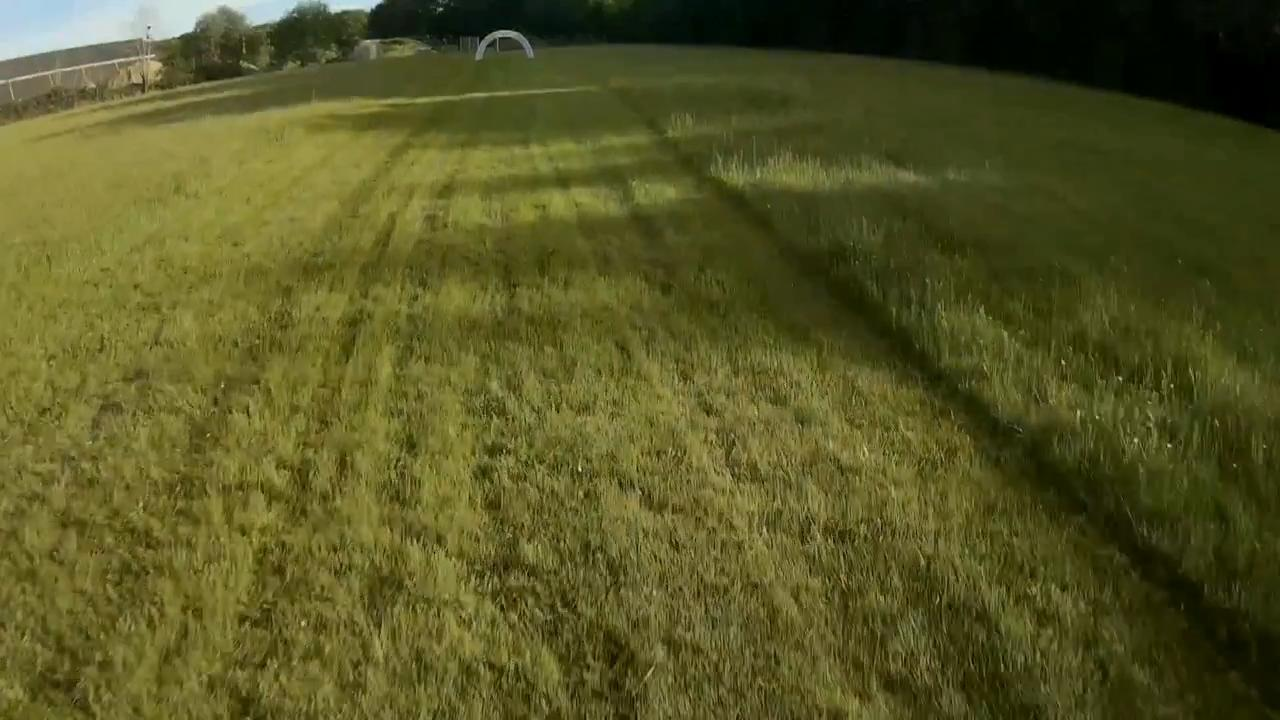gate: (470, 26, 537, 64)
